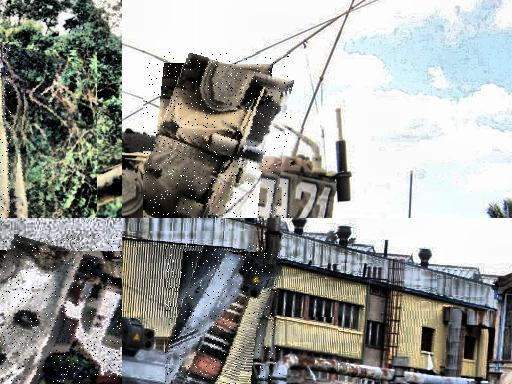tanks: (144, 53, 292, 219), (1, 235, 123, 384), (166, 246, 281, 384), (1, 76, 13, 219)
